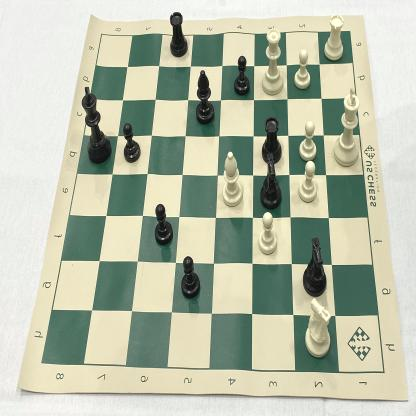black-bishop: (192, 66, 217, 131)
black-king: (78, 79, 115, 168)
black-knight: (300, 233, 328, 300), (257, 150, 286, 213)
black-pawn: (151, 198, 175, 249), (178, 253, 202, 302), (232, 52, 254, 98), (121, 120, 142, 164)
black-rook: (257, 114, 283, 171)
white-bishop: (220, 146, 247, 211)
white-king: (331, 79, 364, 172)
white-knight: (298, 295, 336, 362)
white-pawn: (295, 158, 321, 205), (298, 118, 322, 163), (291, 49, 313, 94)
white-queen: (259, 23, 284, 100), (167, 10, 189, 63)
white-rook: (322, 10, 348, 64), (255, 206, 282, 257)
